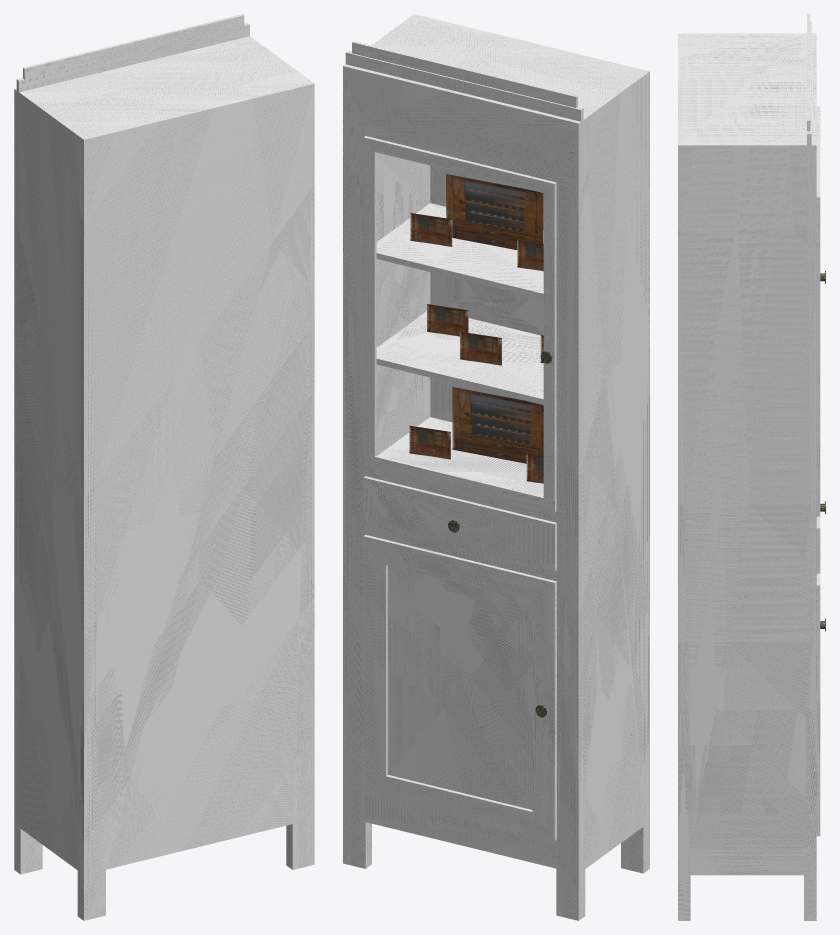
3 renders of one model, left to right at view 1: azimuth 30°, elevation 25°; view 2: azimuth 150°, elevation 25°; view 3: azimuth 270°, elevation 25°, orthographic. The views are drawn at different scales.
Visible parts, largest first — view 1: mesh3_mesh3-geometry; view 2: mesh3_mesh3-geometry, mesh2_mesh2-geometry, mesh1_mesh1-geometry; view 3: mesh3_mesh3-geometry.
Boxes of the visible parts, box(x1,y1,x2,y2) form: mesh3_mesh3-geometry: box(14, 14, 314, 920); mesh3_mesh3-geometry: box(343, 14, 649, 920); mesh2_mesh2-geometry: box(446, 174, 543, 463); mesh1_mesh1-geometry: box(409, 213, 543, 483); mesh3_mesh3-geometry: box(678, 14, 825, 920).
Size of the model in its own units: 0.2842 by 0.9455 by 0.1589.
